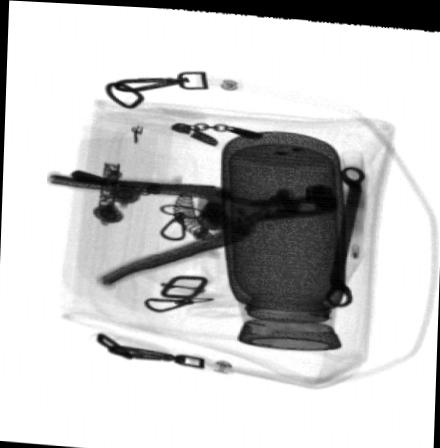Pliers: (47, 172, 337, 284)
Wrench: (322, 159, 365, 302)
